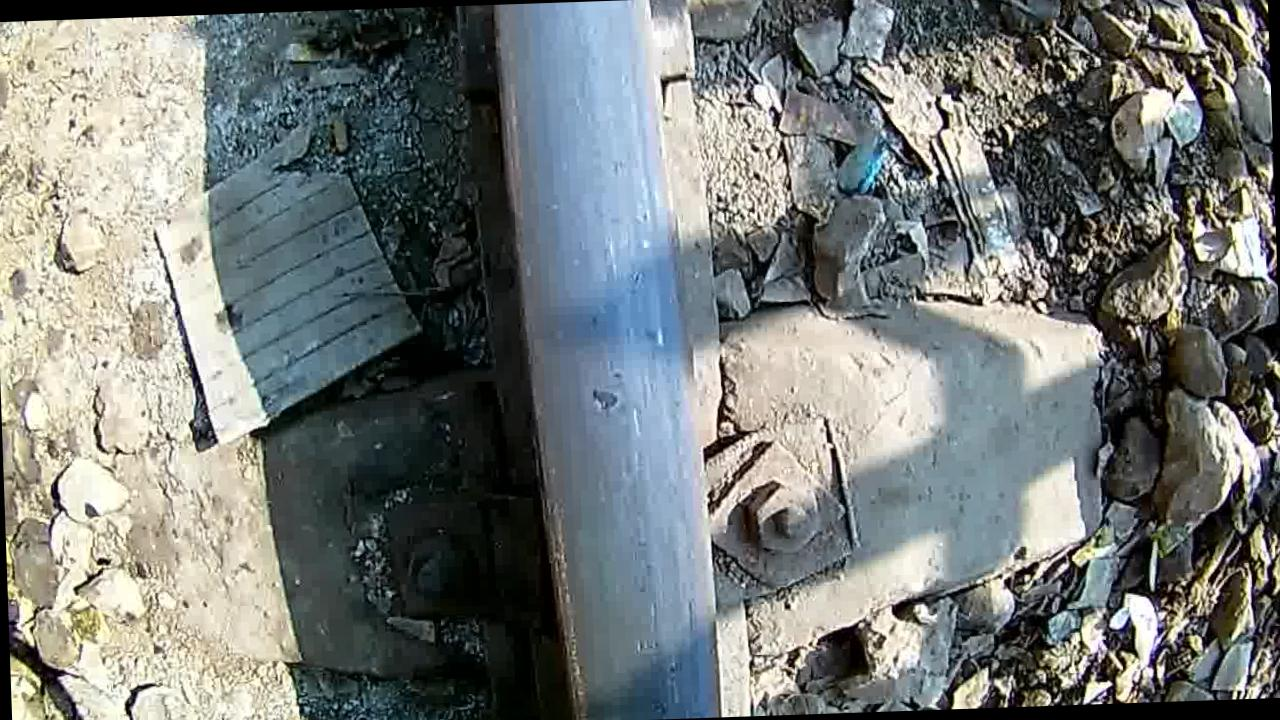crack: (540, 279, 678, 550)
